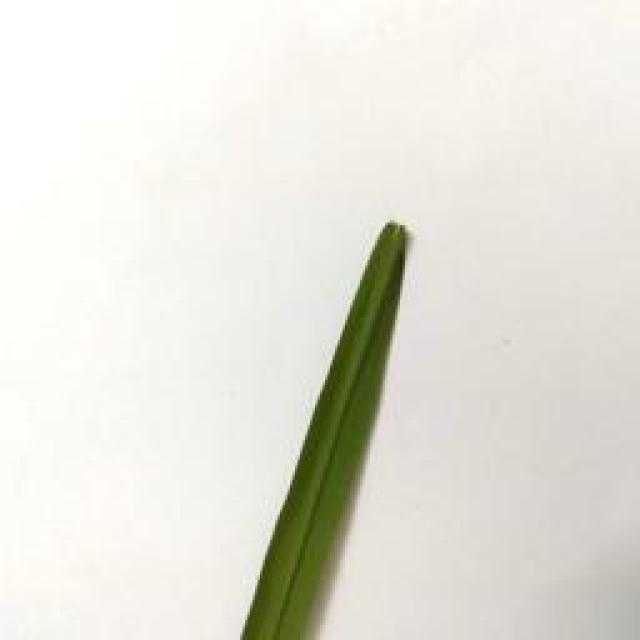Healthy-Plant: (234, 221, 405, 640)
